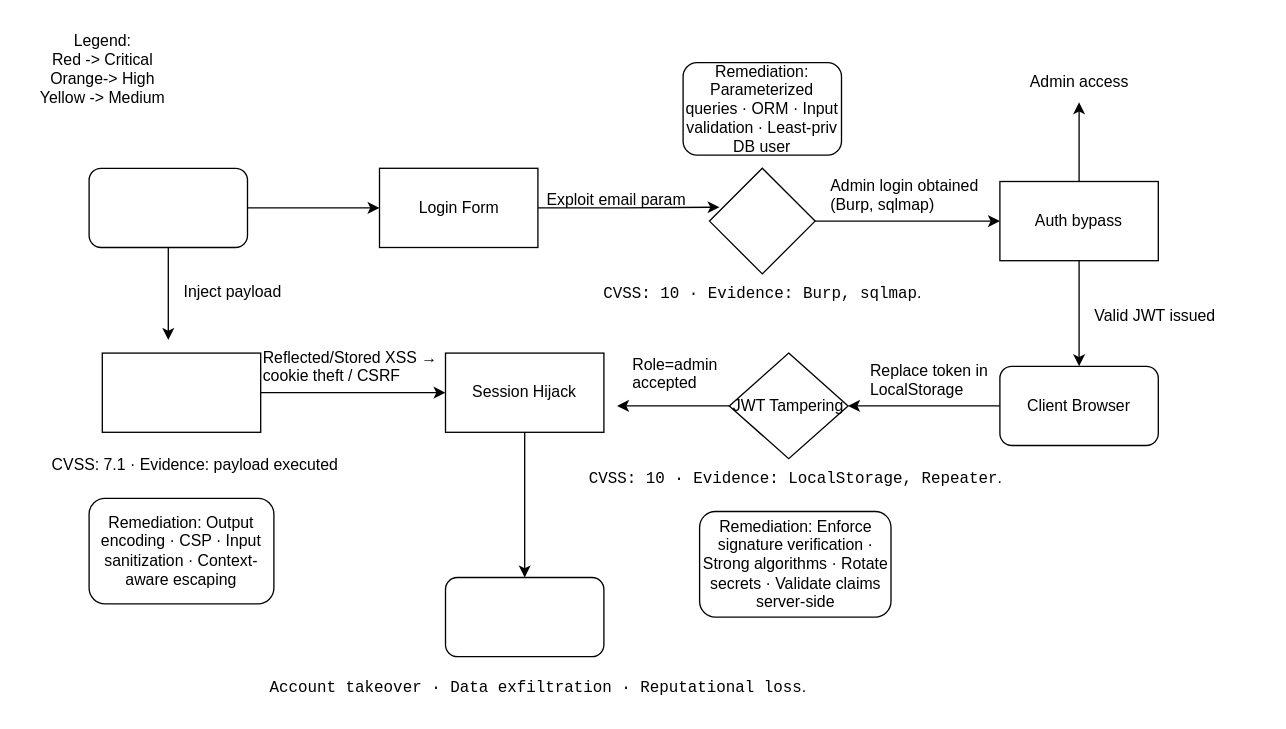
The diagram is 1286 pixels wide and 729 high, and some of its shapes have lost their labels. Each missing label, with the box of its shape:
Attacker: (88, 167, 248, 248)
Business Impact: (444, 576, 604, 657)
Search bar (Reflected XSS): (101, 352, 261, 432)
SQLi: (708, 167, 815, 274)
